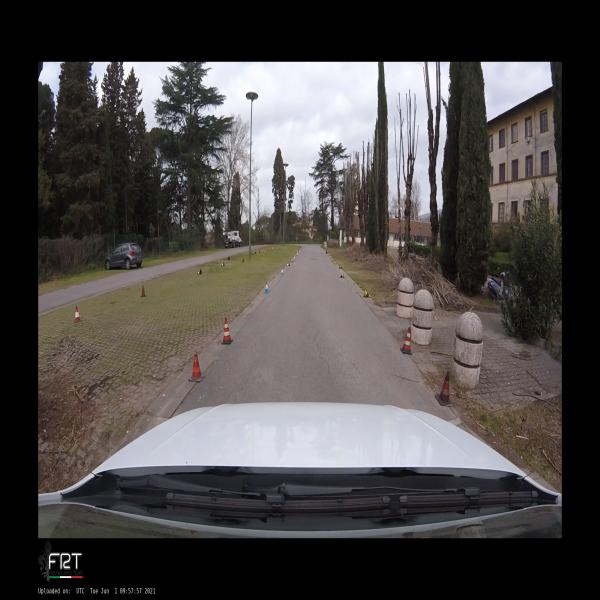blue_cone: (264, 281, 270, 293), (281, 268, 284, 276), (287, 262, 290, 266)
large_orange_cone: (435, 372, 453, 406), (188, 353, 205, 382), (400, 327, 412, 355), (221, 318, 233, 344)
orange_cone: (73, 306, 82, 322)
unknown_cone: (140, 284, 147, 297), (197, 270, 202, 274), (221, 262, 225, 266), (242, 256, 244, 262), (227, 257, 230, 260)
yellow_cone: (364, 290, 371, 298), (339, 273, 344, 278), (339, 264, 342, 268), (332, 259, 334, 262)
